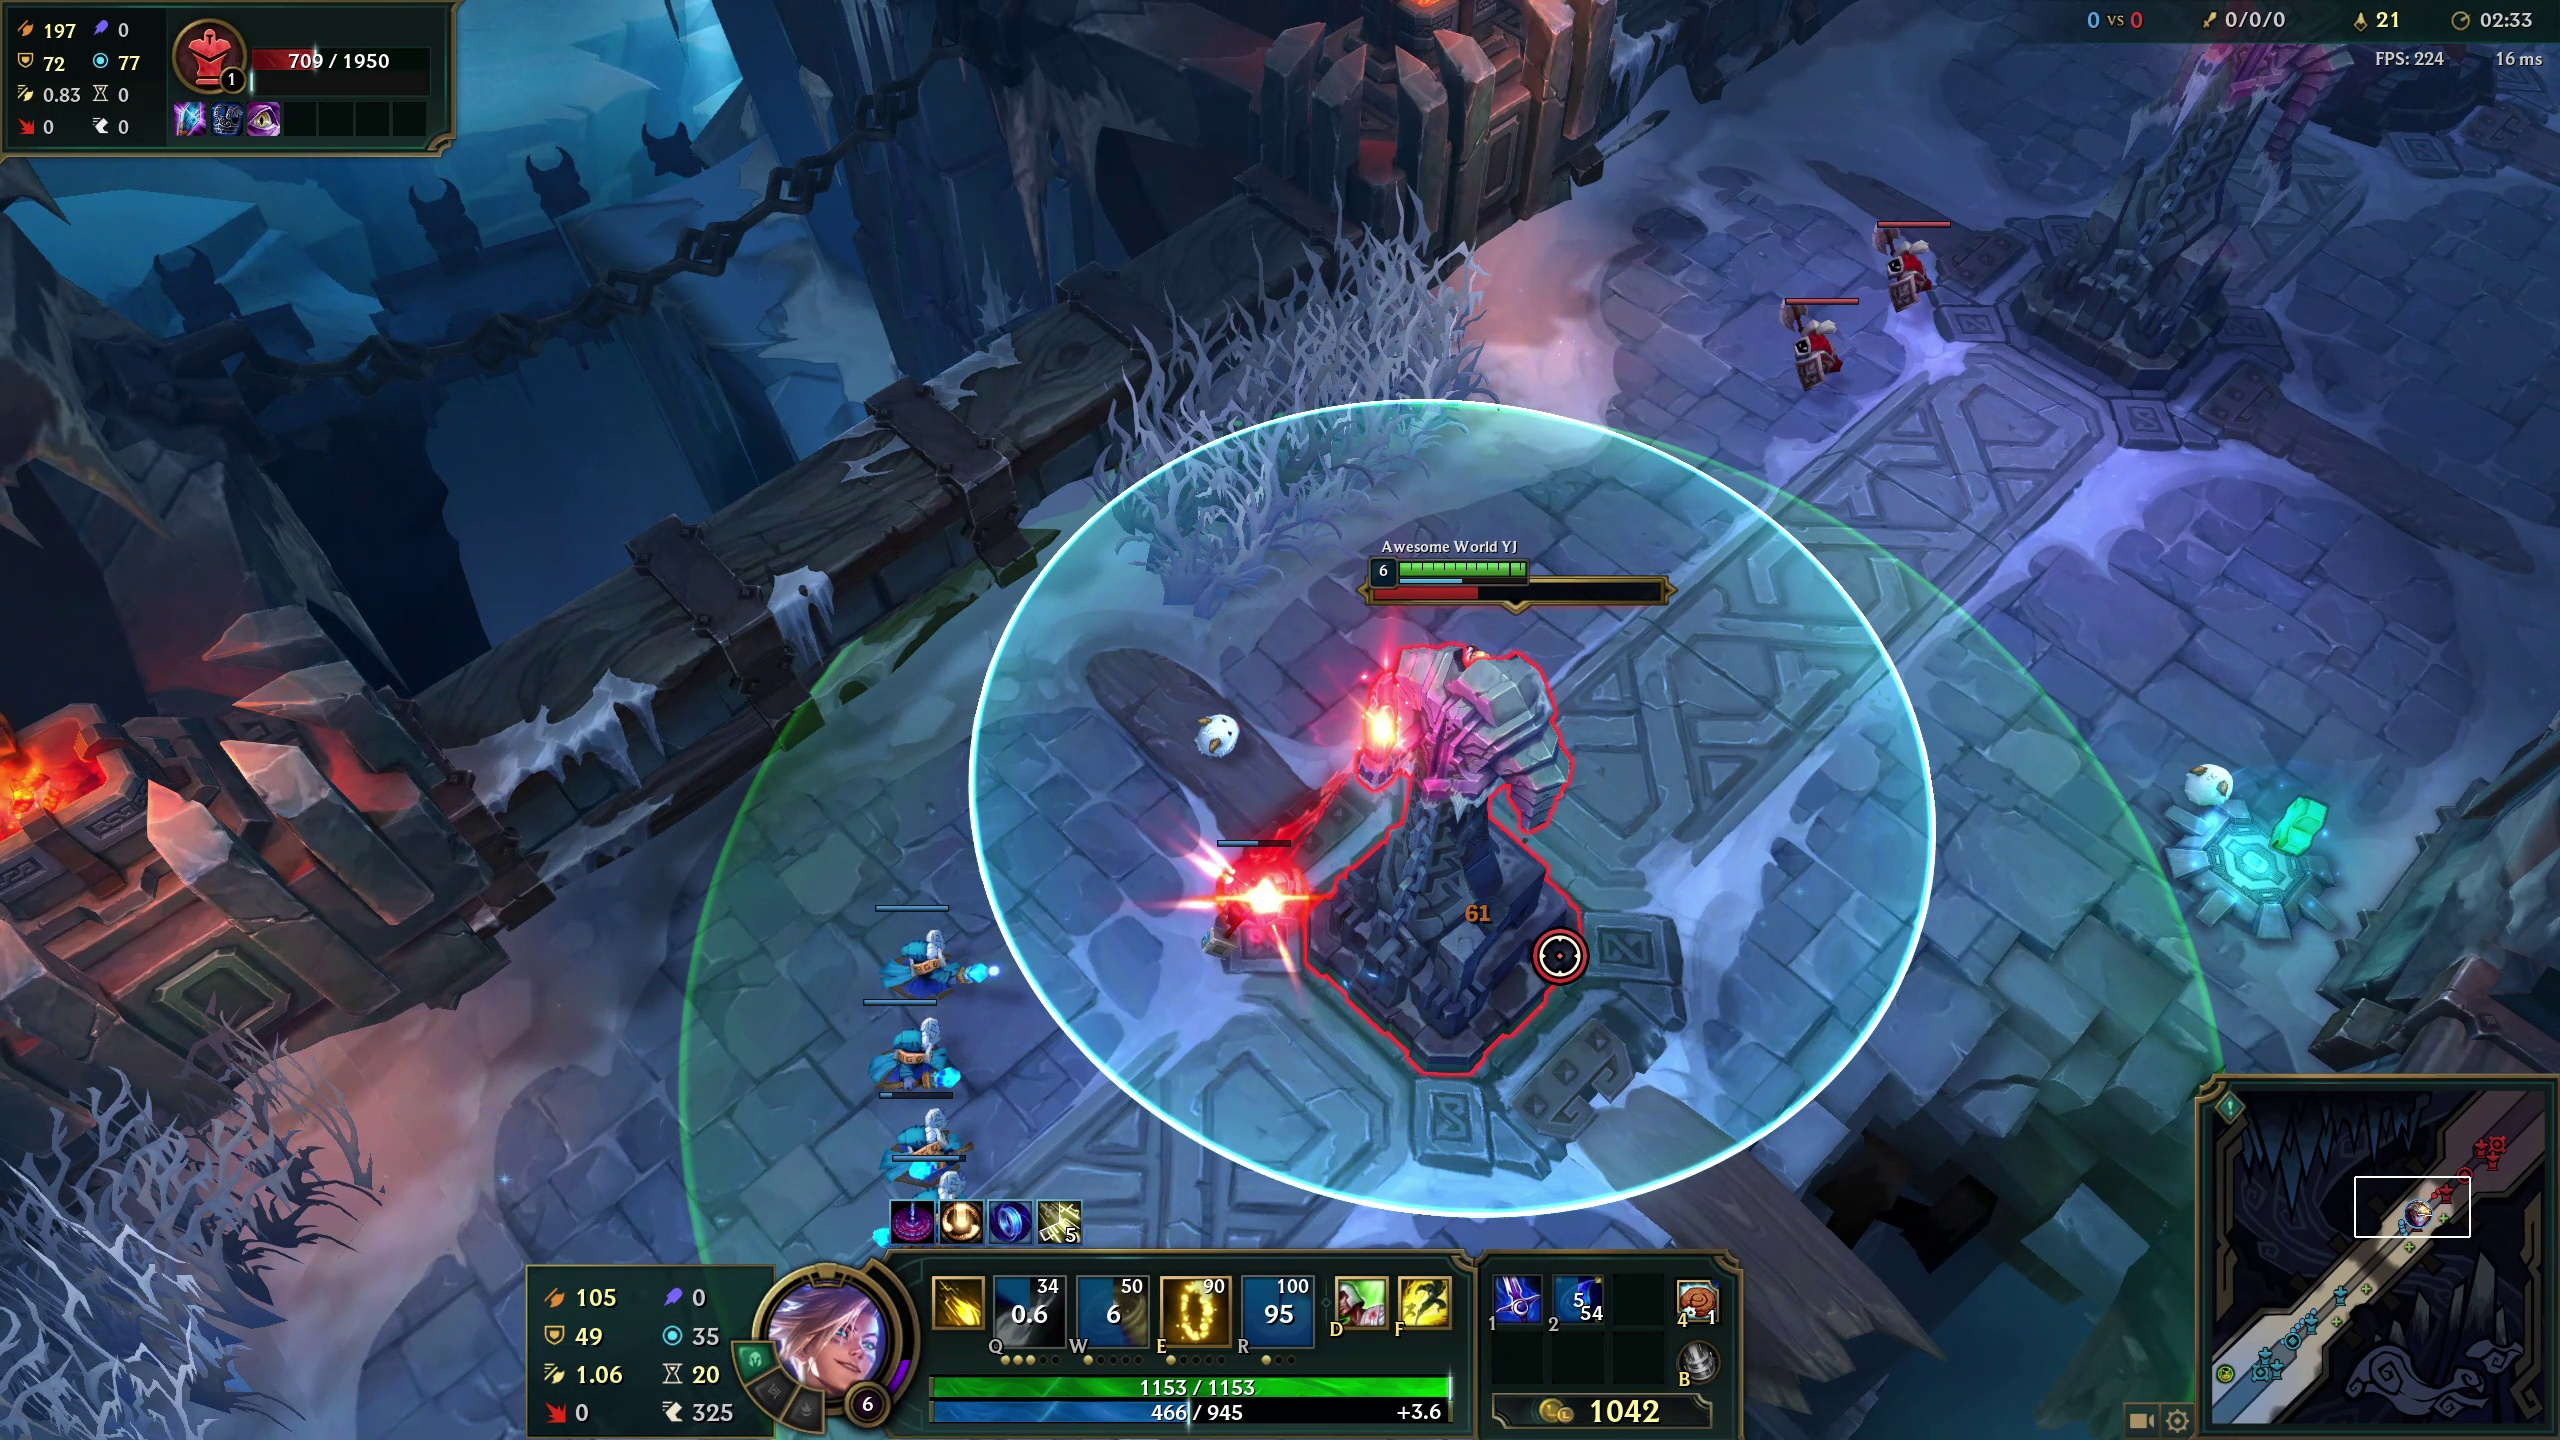EZ: (1382, 522, 1516, 612)
EnemyMinion: (1776, 290, 1864, 392), (1874, 202, 1962, 304)
Glass: (2, 1155, 253, 1408), (1176, 301, 1436, 508)
MyMinion: (1204, 830, 1296, 937), (869, 904, 958, 990), (865, 1006, 955, 1092), (884, 1088, 953, 1169)
Turret: (1335, 644, 1614, 1080), (2036, 60, 2388, 383)
